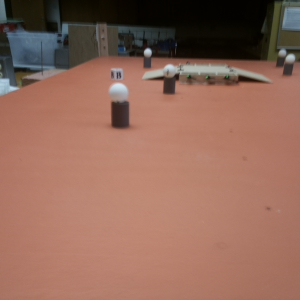blockB: (110, 69, 125, 79)
corner: (96, 23, 110, 56)
obstacle: (111, 82, 131, 132), (163, 65, 177, 95), (285, 55, 296, 77), (142, 48, 153, 69), (276, 48, 283, 68)
side: (181, 72, 234, 86)
slope: (235, 66, 275, 85)
